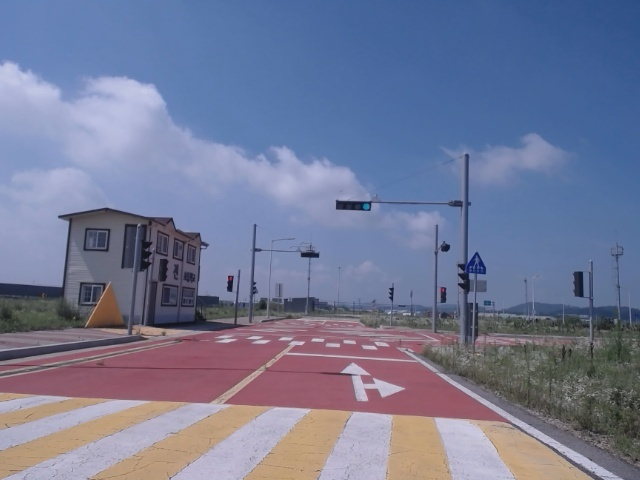straight_green_4: (336, 201, 370, 210)
